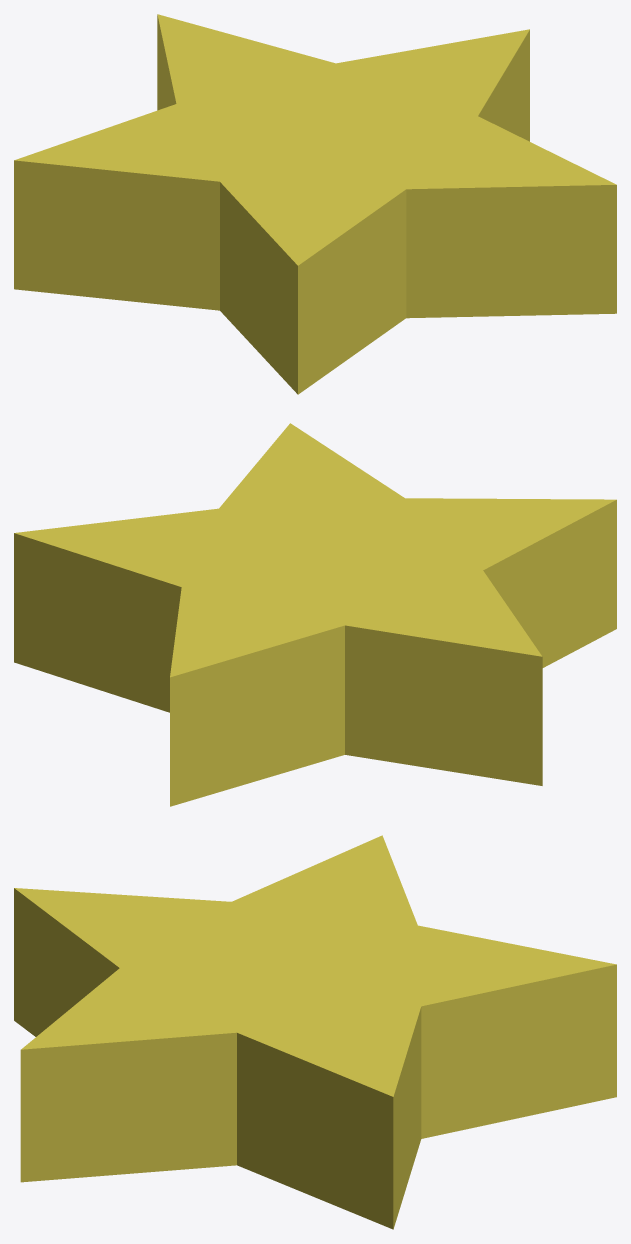
The model's file is yildiz.glb.
3 views of the same model, one above another, from view 1: azimuth 30°, elevation 25°; view 2: azimuth 150°, elevation 25°; view 3: azimuth 270°, elevation 25° (orthographic). The views are drawn at different scales.
Parts seen in each view (by area): view 1: Mesh_Mesh_head_geo.001_lambert2SG.001; view 2: Mesh_Mesh_head_geo.001_lambert2SG.001; view 3: Mesh_Mesh_head_geo.001_lambert2SG.001.
Part boxes in pixels (x1=…): Mesh_Mesh_head_geo.001_lambert2SG.001: x1=14, y1=14, x2=616, y2=394; Mesh_Mesh_head_geo.001_lambert2SG.001: x1=14, y1=423, x2=616, y2=806; Mesh_Mesh_head_geo.001_lambert2SG.001: x1=14, y1=835, x2=616, y2=1229.
Bounding box in the file's own units: 42.32 × 10 × 41.19.
